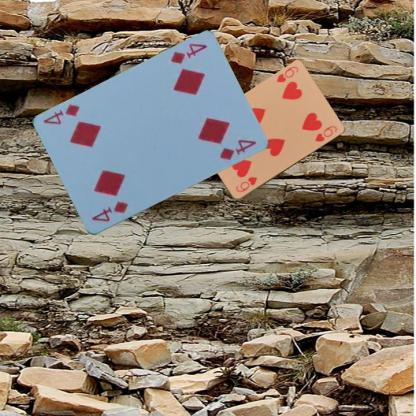4d: (89, 198, 130, 224), (168, 40, 208, 66)
6h: (274, 64, 300, 84), (233, 174, 258, 193)
